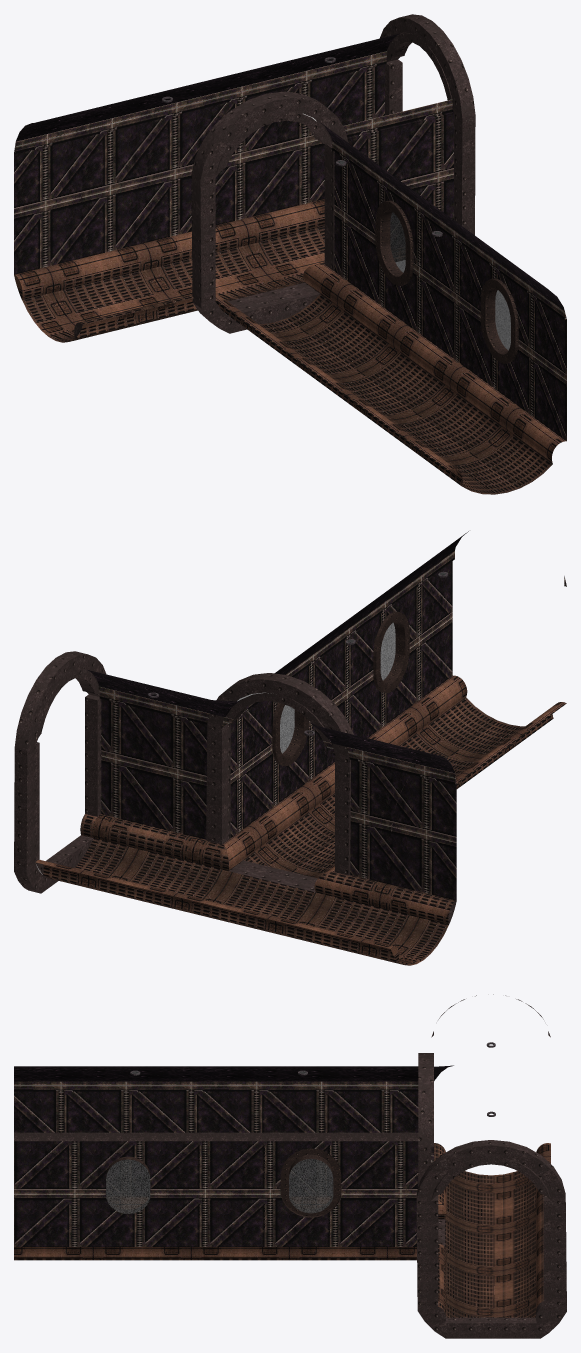
The model's file is pasillo 3 largo.fbx.
3 renders of one model, top to bottom at view 1: azimuth 30°, elevation 25°; view 2: azimuth 150°, elevation 25°; view 3: azimuth 270°, elevation 25°, orthographic. The views are drawn at different scales.
Parts seen in each view (by area): view 1: Model; view 2: Model; view 3: Model.
Boxes of the visible parts, left/top/right/bottom form: Model: left=14, top=14, right=566, bottom=494; Model: left=14, top=531, right=566, bottom=965; Model: left=14, top=994, right=566, bottom=1338.
Bounding box in the file's own units: 5.54 × 3.07 × 7.95.
